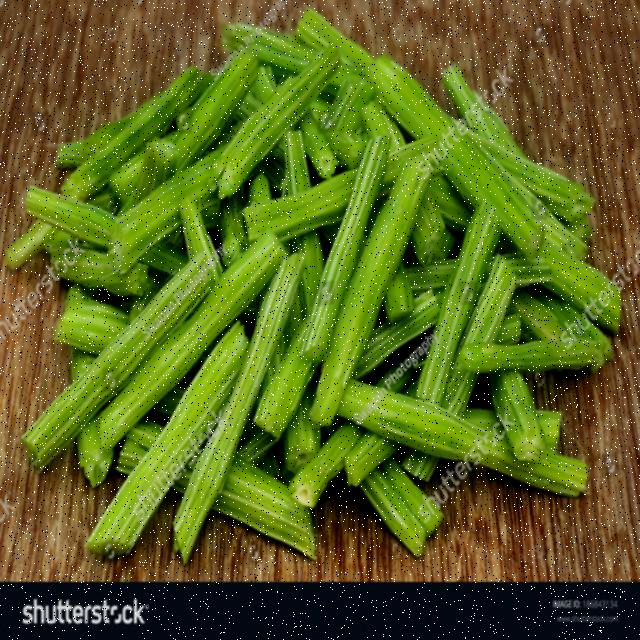Moringa Drumsticks: (114, 75, 597, 431)
